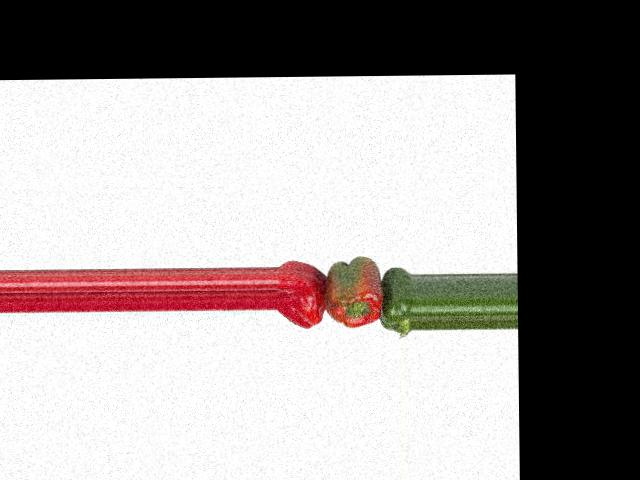bell_pepper: (276, 256, 328, 334)
